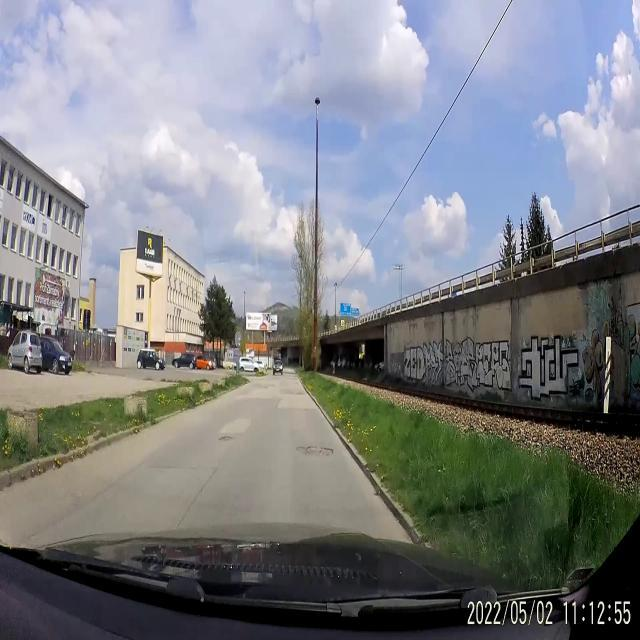Pothole: (296, 438, 336, 467), (220, 430, 236, 446)
